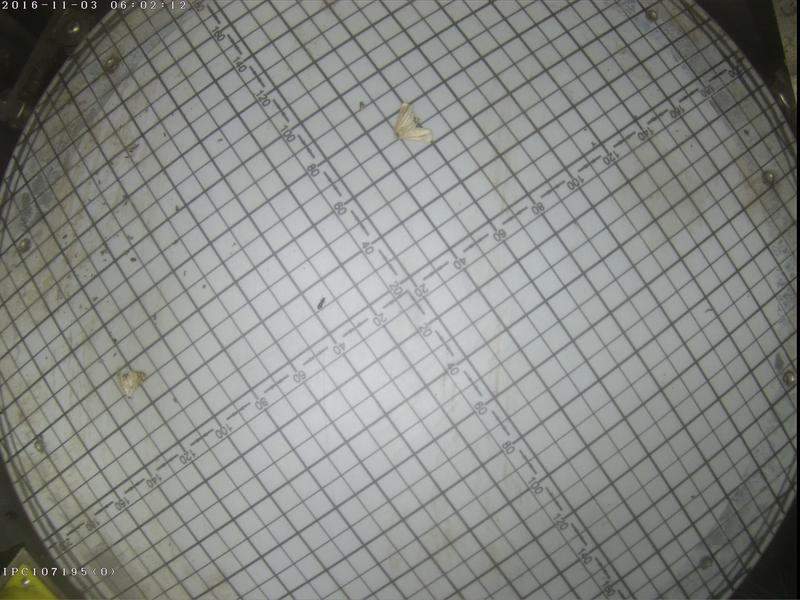Stem borer: (389, 99, 431, 142)
